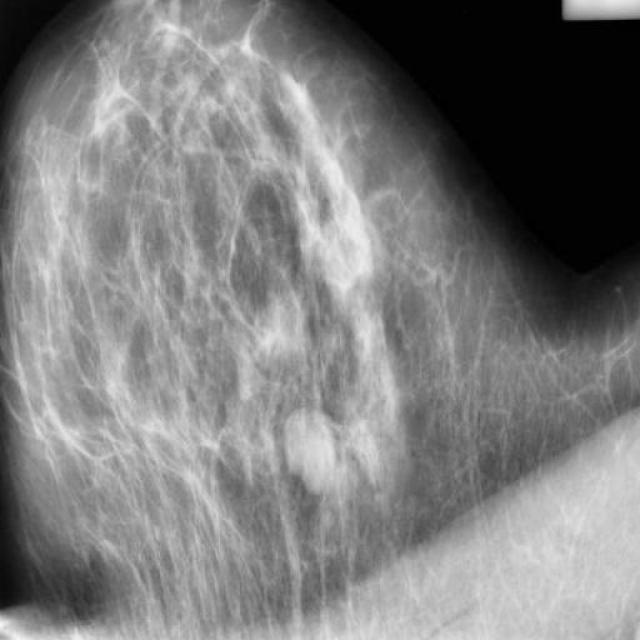cancer: (300, 150, 406, 322)
